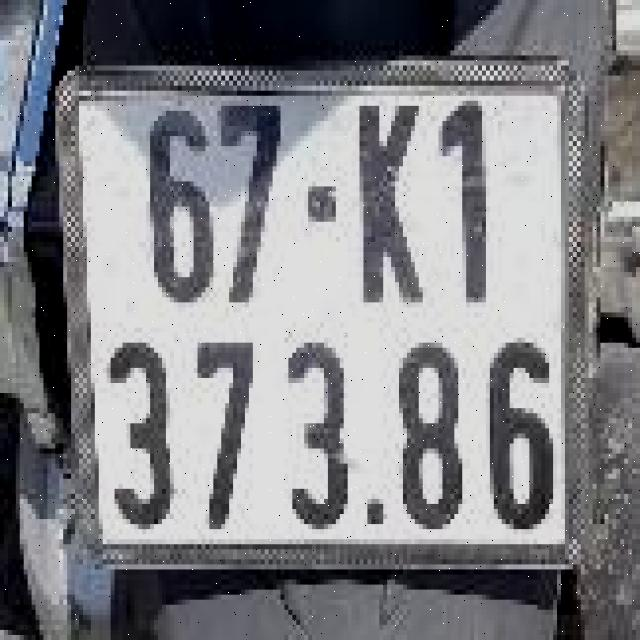1: (434, 88, 510, 315)
3: (96, 338, 188, 539), (278, 325, 358, 532), (280, 328, 356, 534)
6: (478, 315, 569, 537), (142, 96, 218, 307)
7: (208, 86, 294, 302), (184, 320, 258, 527)
8: (378, 320, 460, 532)
K: (336, 80, 426, 308)
